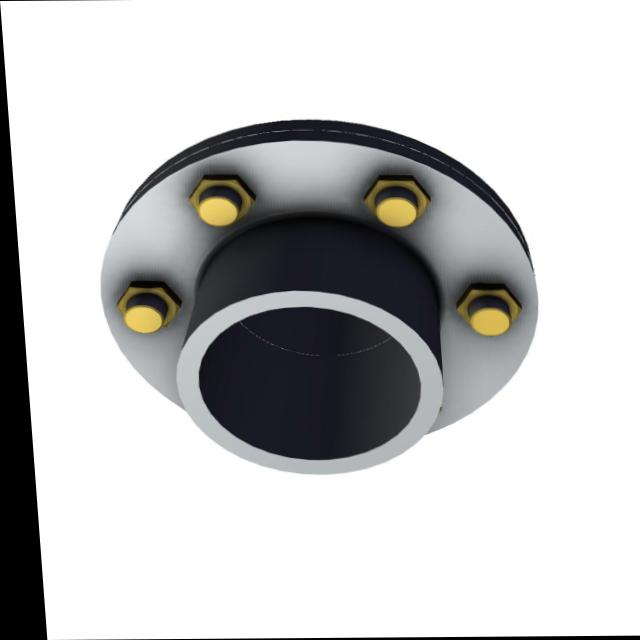Regular bolt: (449, 281, 519, 337), (358, 175, 430, 229), (110, 283, 177, 333), (185, 176, 252, 222)
